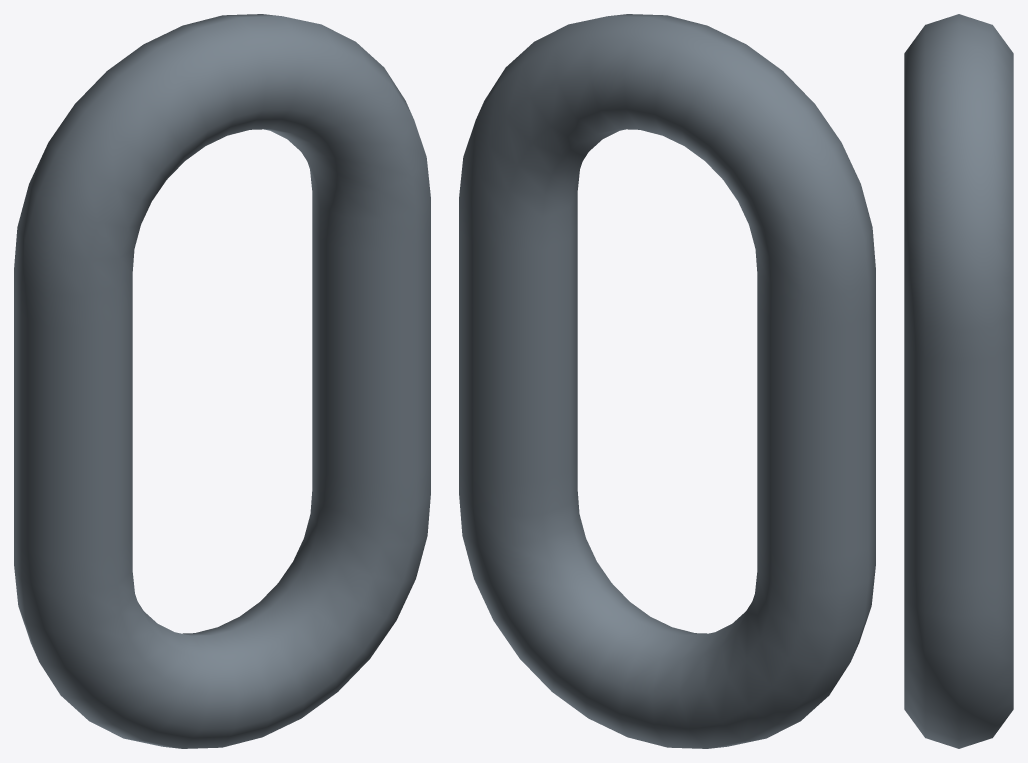
File: ChainLink.fbx
3 renders of one model, left to right at view 1: azimuth 30°, elevation 25°; view 2: azimuth 150°, elevation 25°; view 3: azimuth 270°, elevation 25°, orthographic. The views are drawn at different scales.
Parts seen in each view (by area): view 1: ChainLink; view 2: ChainLink; view 3: ChainLink.
Boxes of the visible parts, box(x1,y1,x2,y2) form: ChainLink: box(14, 14, 430, 748); ChainLink: box(459, 14, 875, 748); ChainLink: box(904, 14, 1013, 748).
Bounding box in the file's own units: 14 × 23.94 × 3.42.
